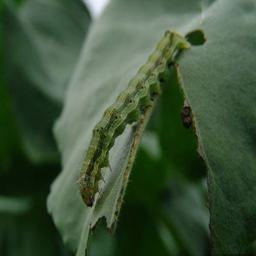Tobacco_budworm: (76, 29, 190, 208)
